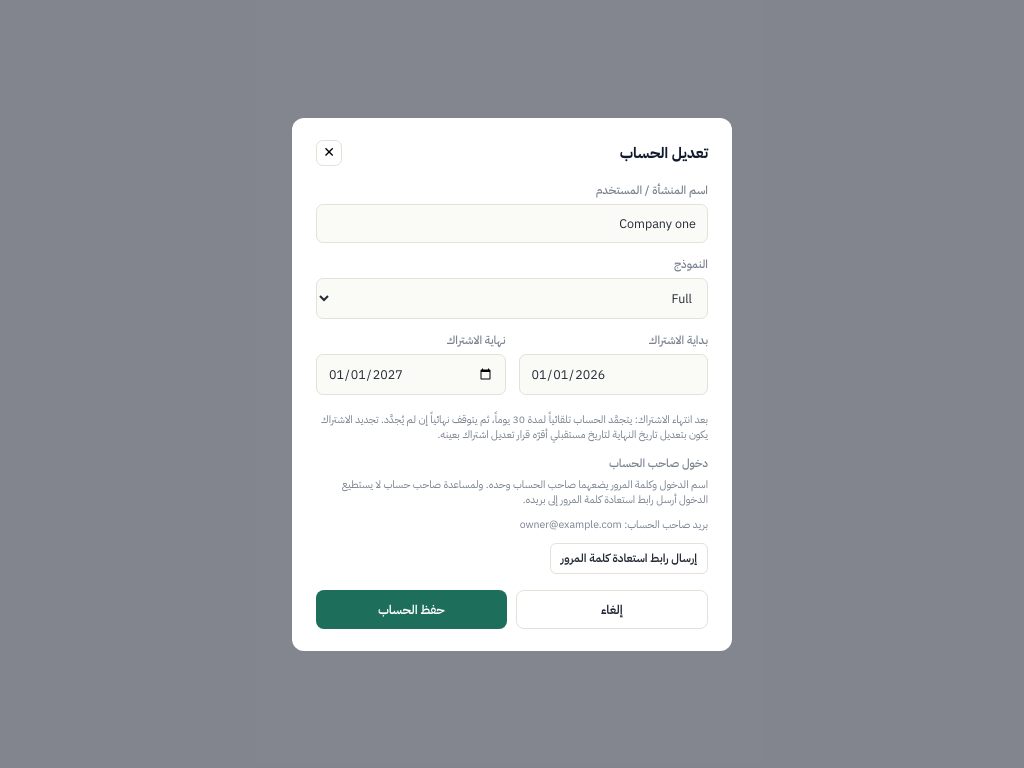
Test case: The platform company form and the owner sign-in details › shows the server refusal when the link cannot be sent
Click the button "إرسال رابط استعادة كلمة المرور" at (629,558), box [550,542,708,574]
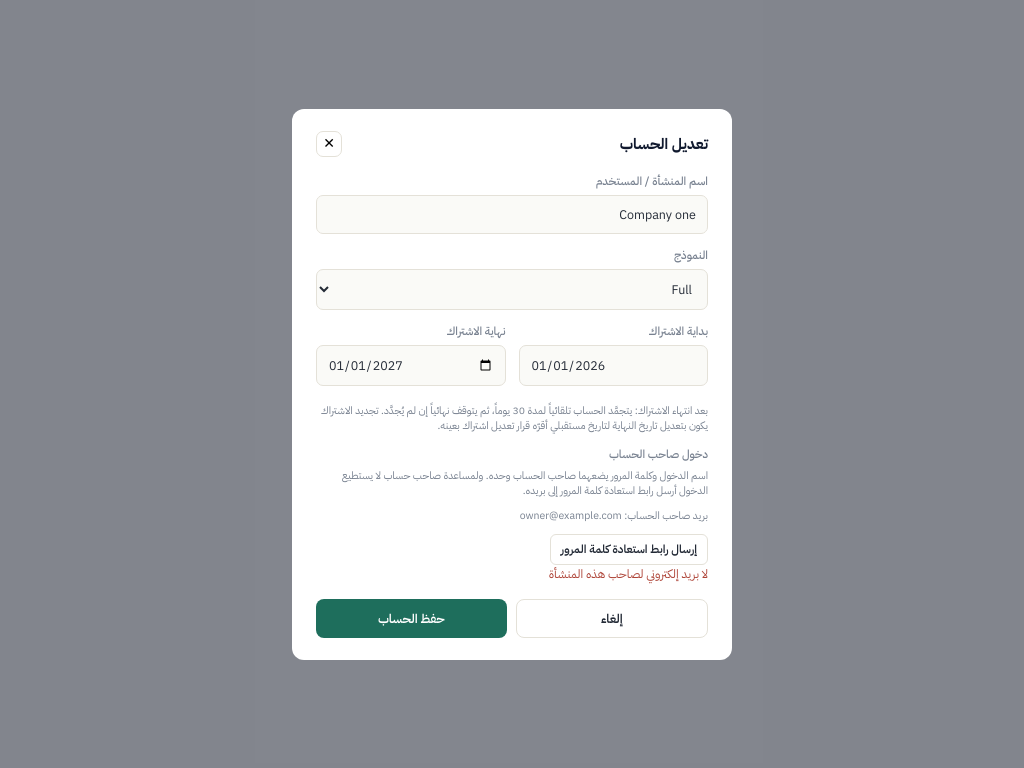
Expected: the text "لا بريد إلكتروني لصاحب هذه المنشأة" is shown, [549,564,708,582]
